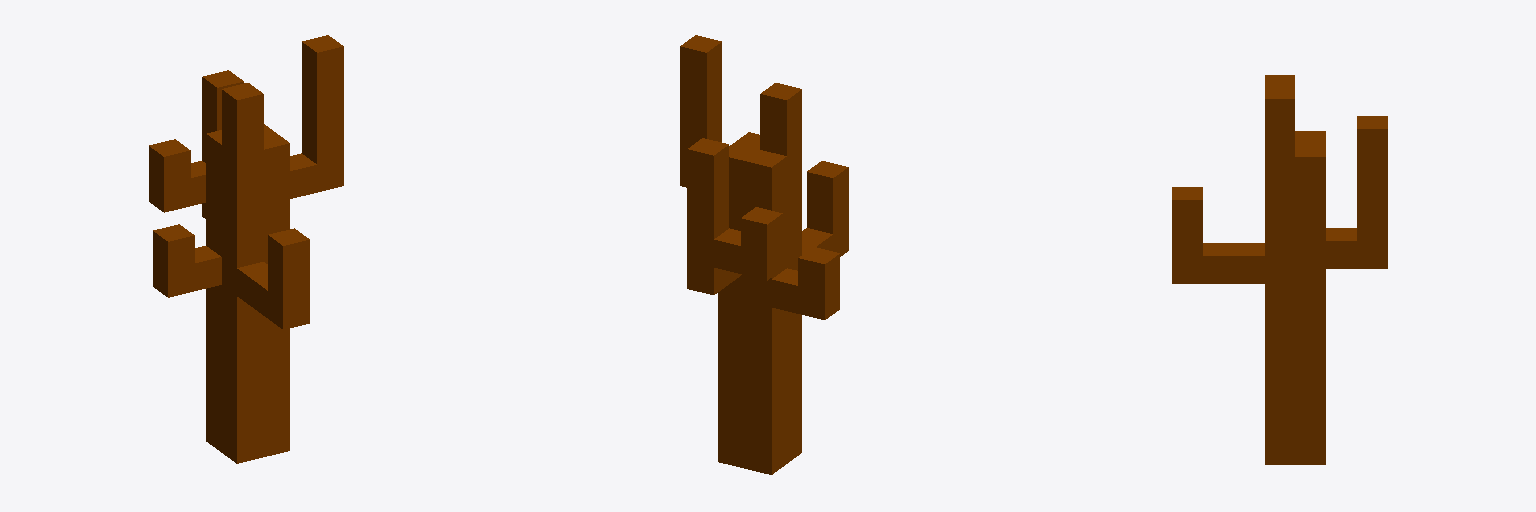
The picture shows the model from 3 angles: view 1: azimuth 30°, elevation 25°; view 2: azimuth 150°, elevation 25°; view 3: azimuth 270°, elevation 25°; orthographic projection.
Parts seen in each view (by area): view 1: deadTree03; view 2: deadTree03; view 3: deadTree03.
Part boxes in pixels (left/top/right/bottom): deadTree03: left=149, top=35, right=343, bottom=463; deadTree03: left=680, top=35, right=848, bottom=474; deadTree03: left=1172, top=75, right=1387, bottom=464.
Size of the model in its own units: 6 by 14 by 7.
Materials: 1 (1 with a texture image).